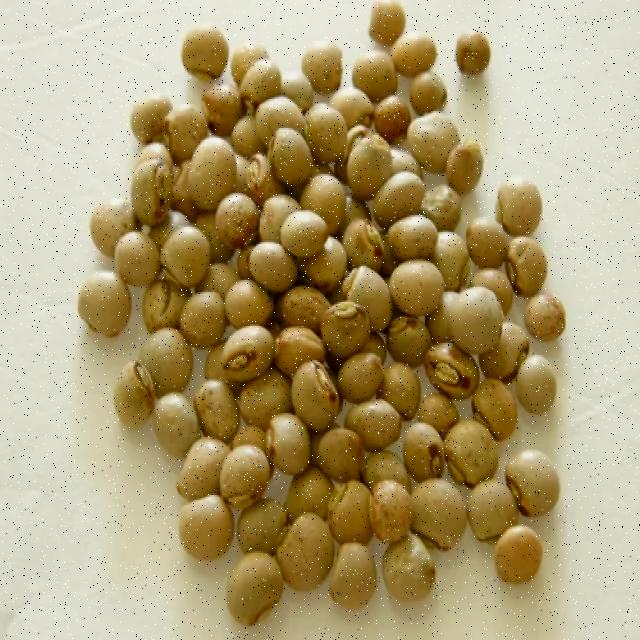NA: (162, 53, 576, 632)
